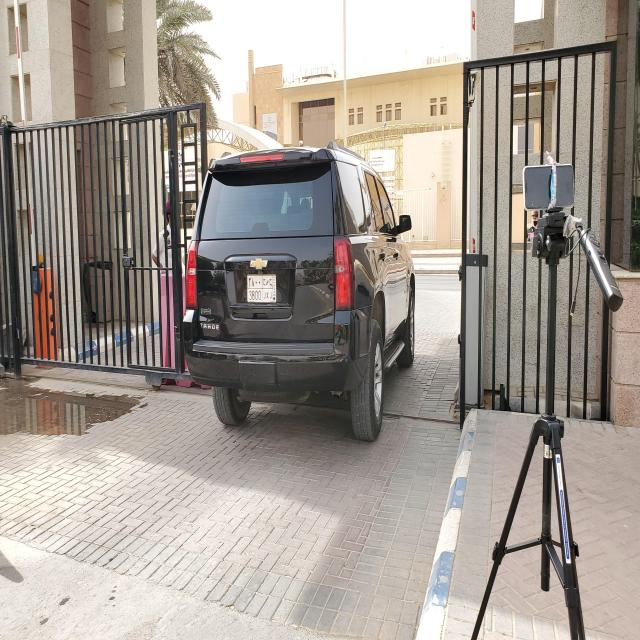license_plate: (247, 274, 276, 302)
